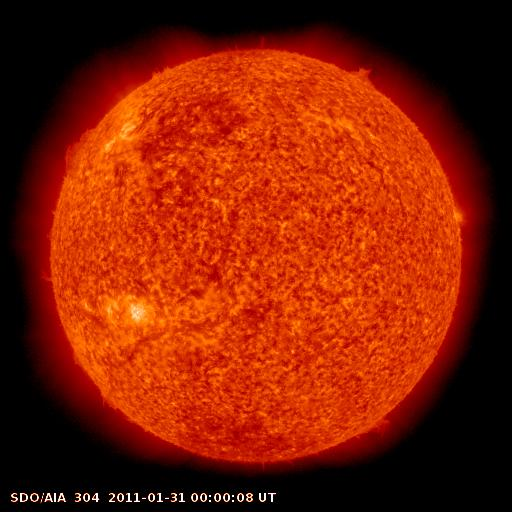prominence: (54, 117, 108, 186), (333, 49, 389, 99), (341, 404, 403, 449), (94, 378, 123, 416)
